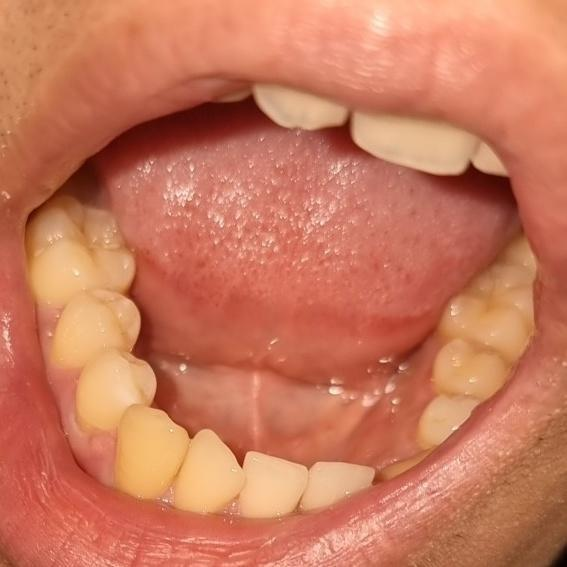Crowding: (174, 428, 310, 514)
